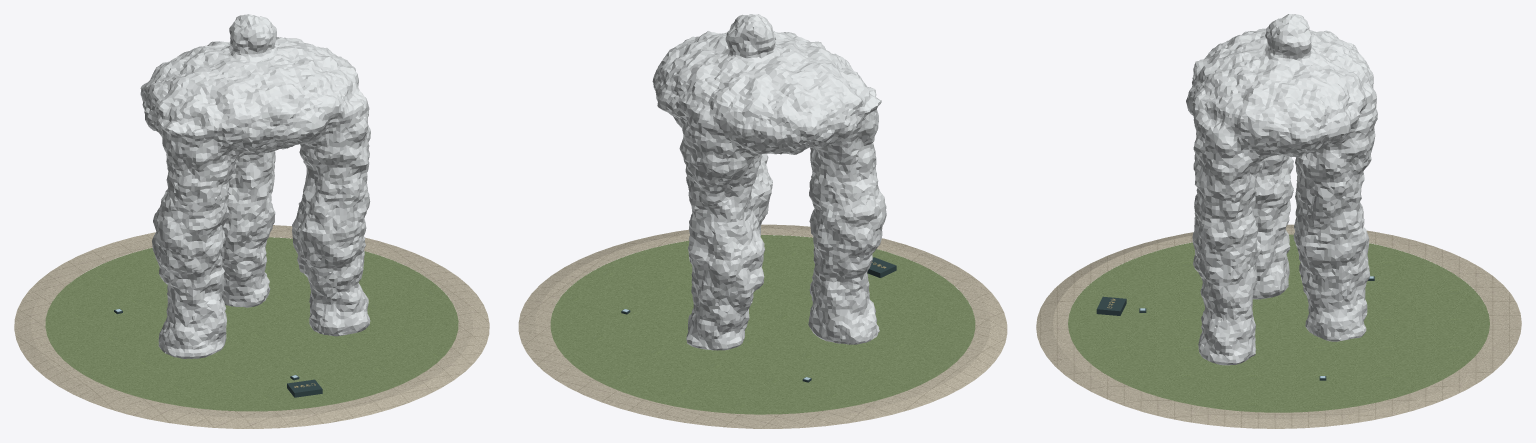
The model's file is time-gate.glb.
3 renders of one model, left to right at view 1: azimuth 30°, elevation 25°; view 2: azimuth 150°, elevation 25°; view 3: azimuth 270°, elevation 25°, orthographic. The views are drawn at different scales.
Parts seen in each view (by area): view 1: landmark-time-gate; view 2: landmark-time-gate; view 3: landmark-time-gate.
Boxes of the visible parts, bbox=[...] form: landmark-time-gate: bbox=[14, 14, 489, 428]; landmark-time-gate: bbox=[518, 14, 1007, 428]; landmark-time-gate: bbox=[1036, 14, 1521, 428].
Size of the model in its own units: 29 by 20.78 by 29.
Materials: 6 (2 with a texture image).
